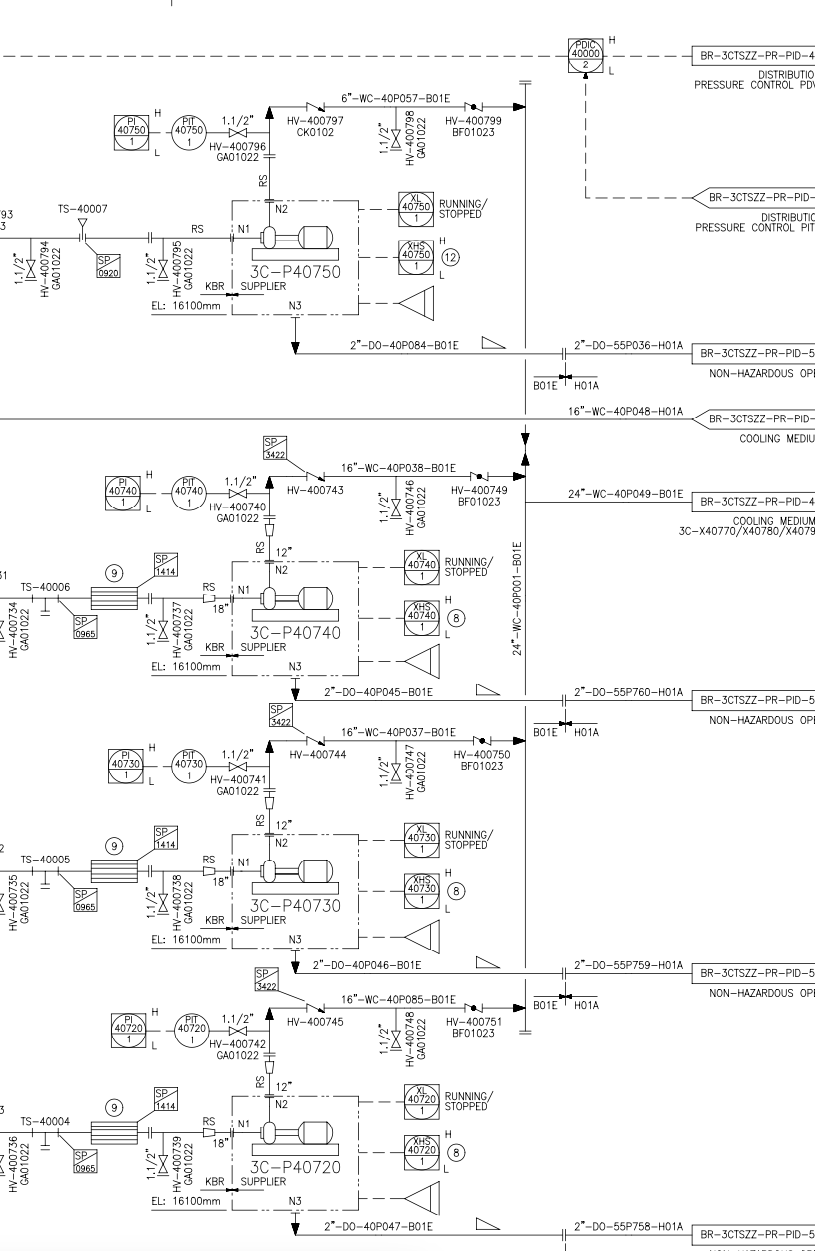Instrument: (167, 109, 210, 152), (171, 1008, 214, 1050), (169, 471, 210, 515), (169, 746, 212, 785)
Instrument-square: (104, 107, 154, 157), (98, 471, 145, 519), (398, 1130, 444, 1177), (390, 185, 437, 231), (396, 816, 440, 863), (394, 236, 437, 284), (102, 743, 146, 789), (398, 596, 442, 642), (396, 544, 442, 588), (106, 1004, 149, 1051), (399, 1080, 442, 1124), (398, 869, 442, 911), (562, 33, 606, 75)
